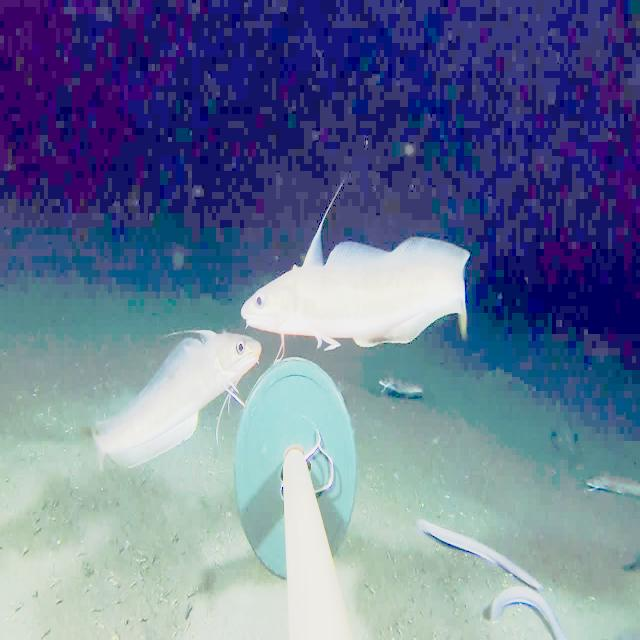eel: (399, 506, 547, 594), (482, 580, 574, 638)
fish: (238, 232, 484, 356), (87, 321, 254, 491), (576, 454, 636, 509), (376, 363, 428, 409)
pole: (244, 375, 363, 568)
